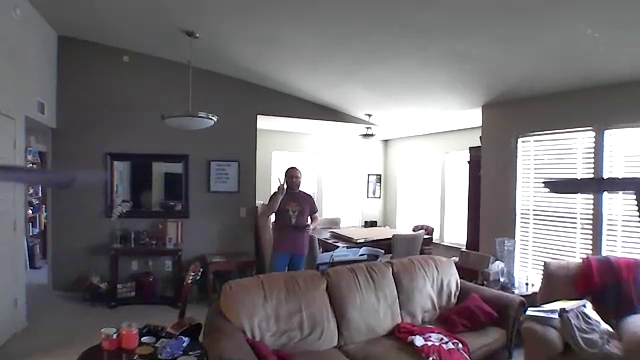peace: (273, 174, 290, 195)
